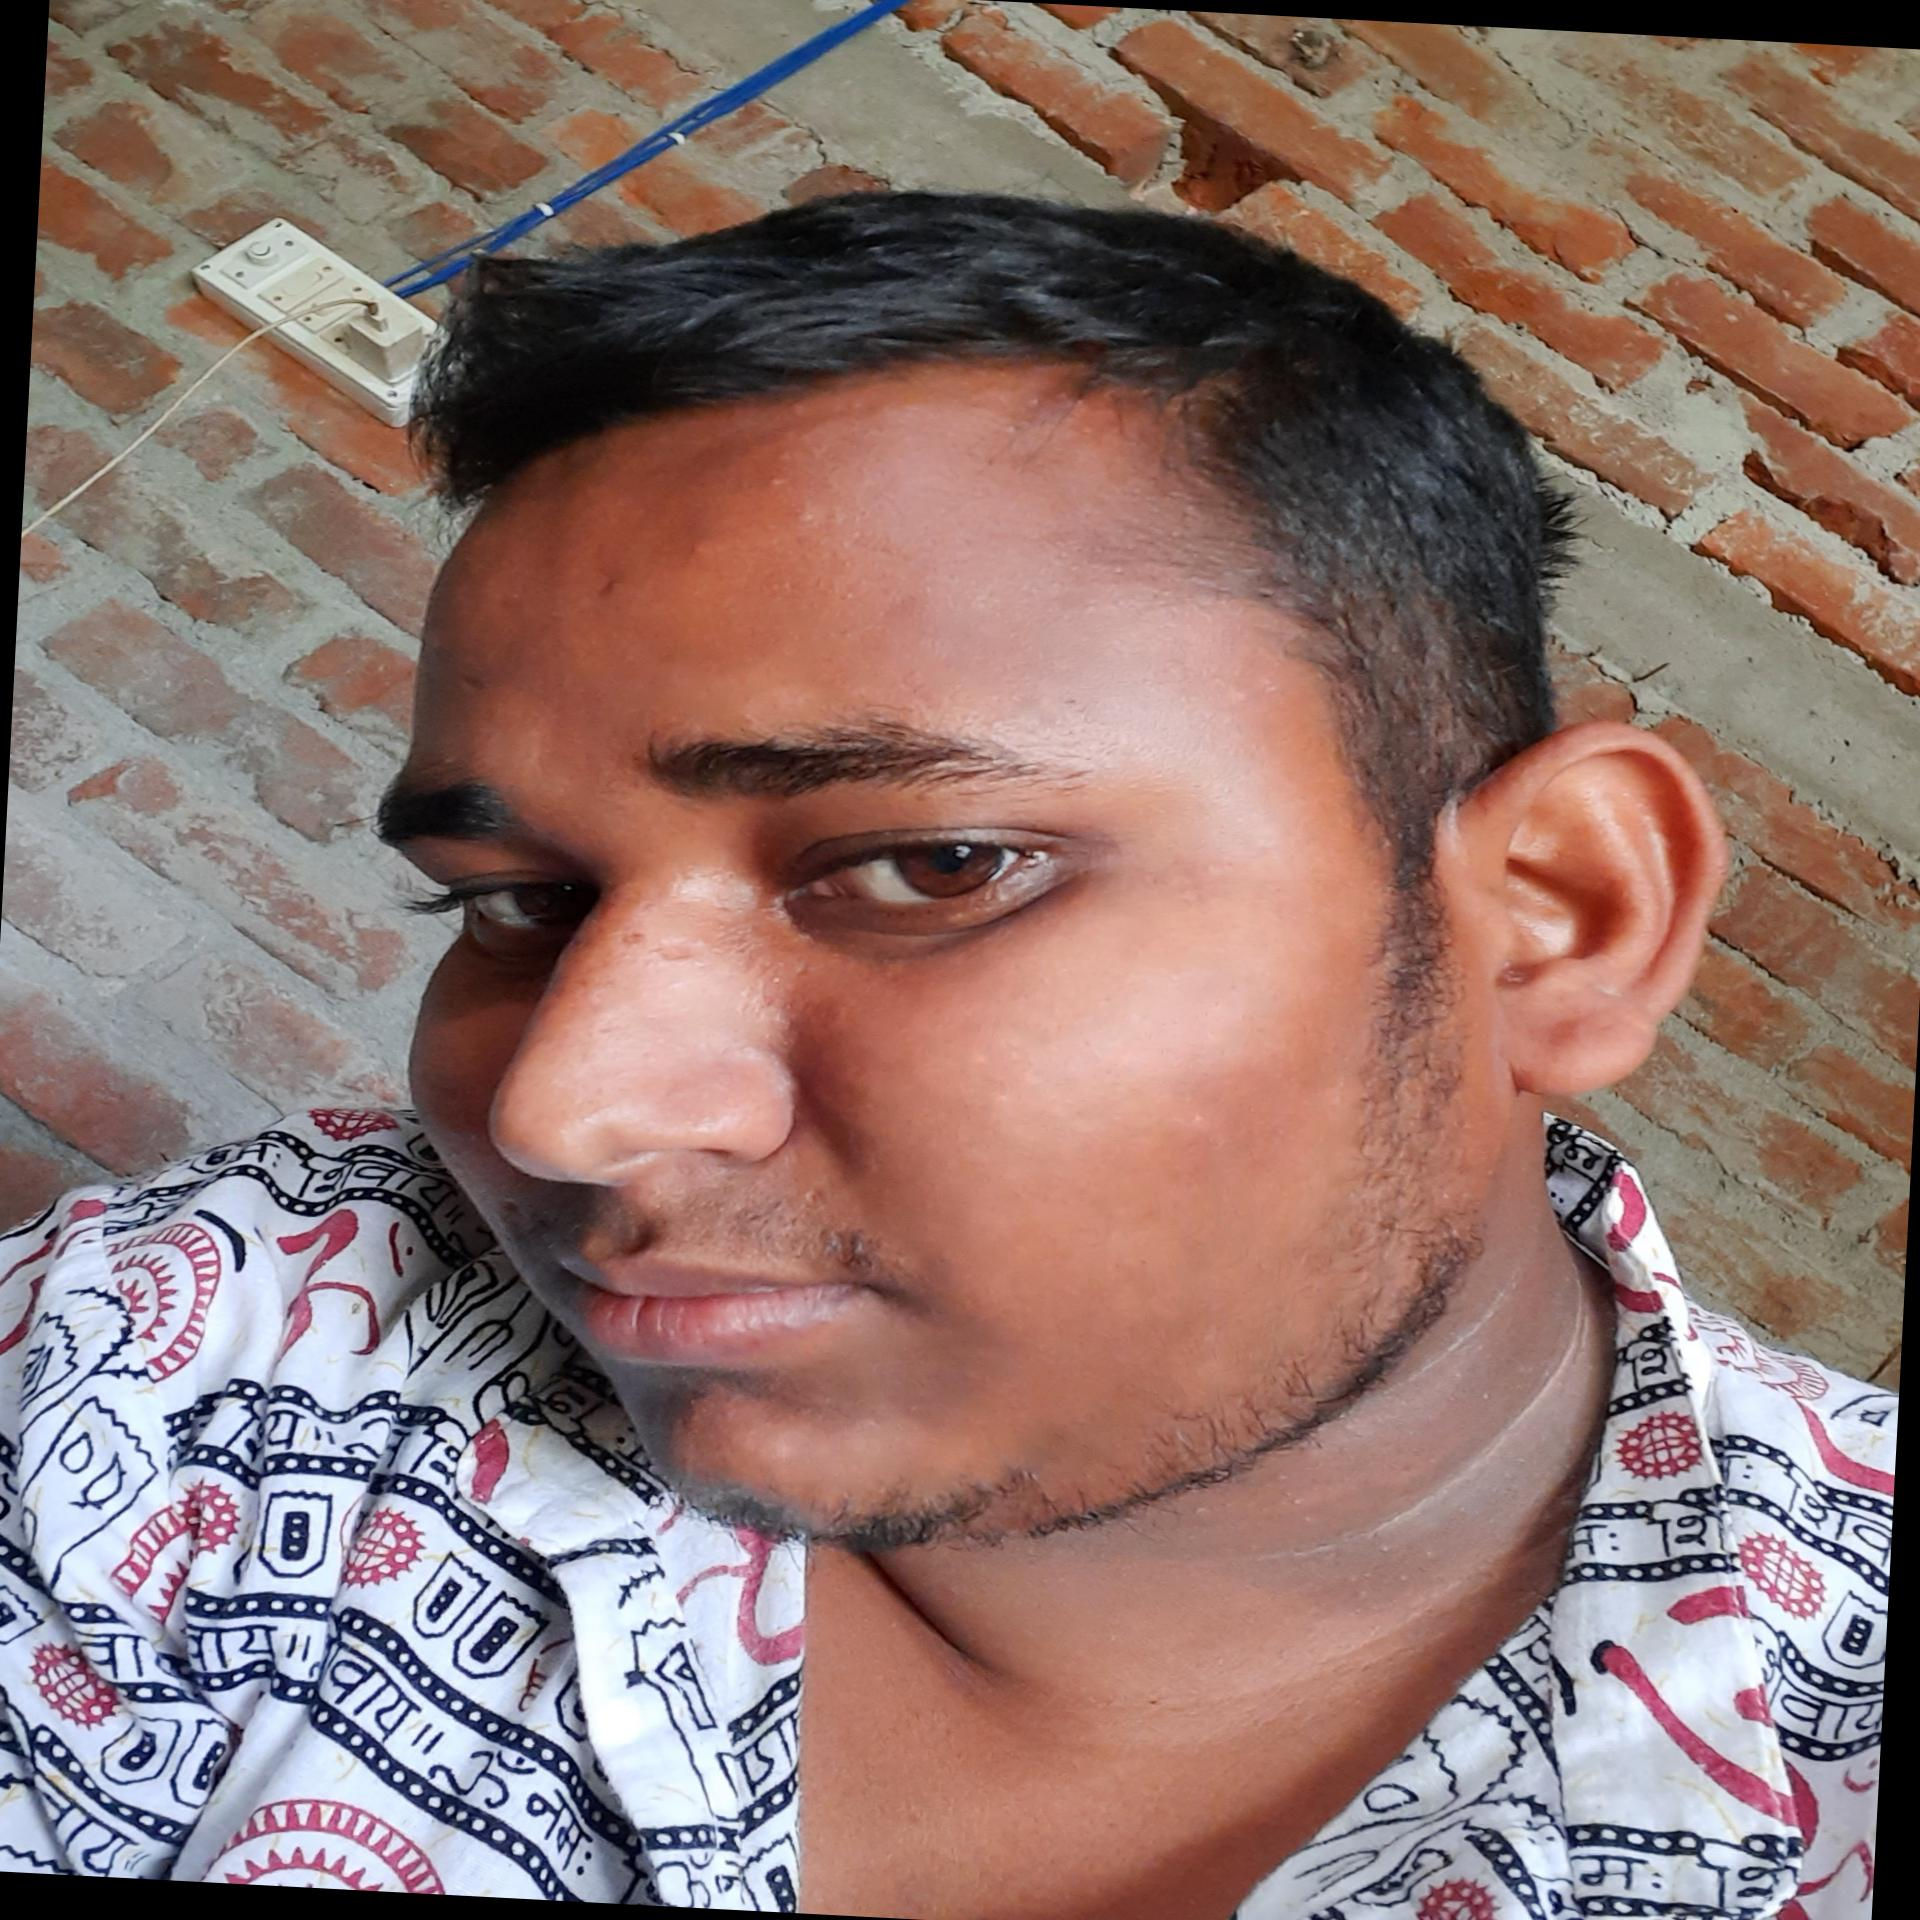Acne: (791, 505, 828, 529), (684, 536, 714, 557), (763, 469, 788, 491)
